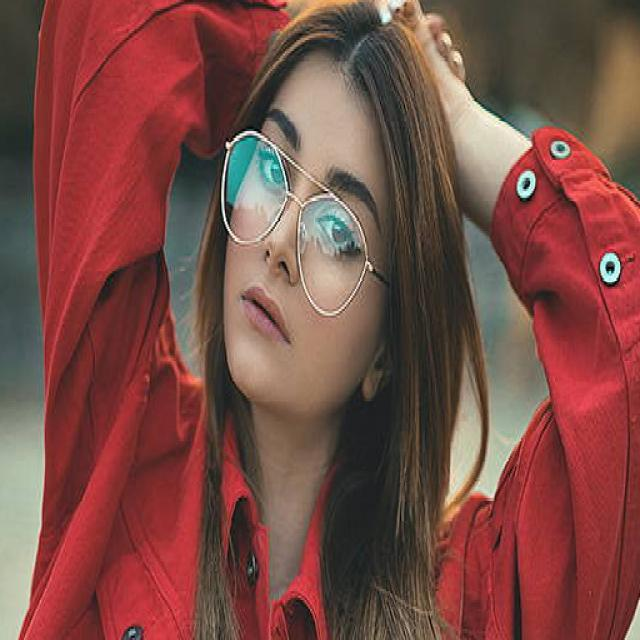Glasses: (220, 127, 390, 318)
